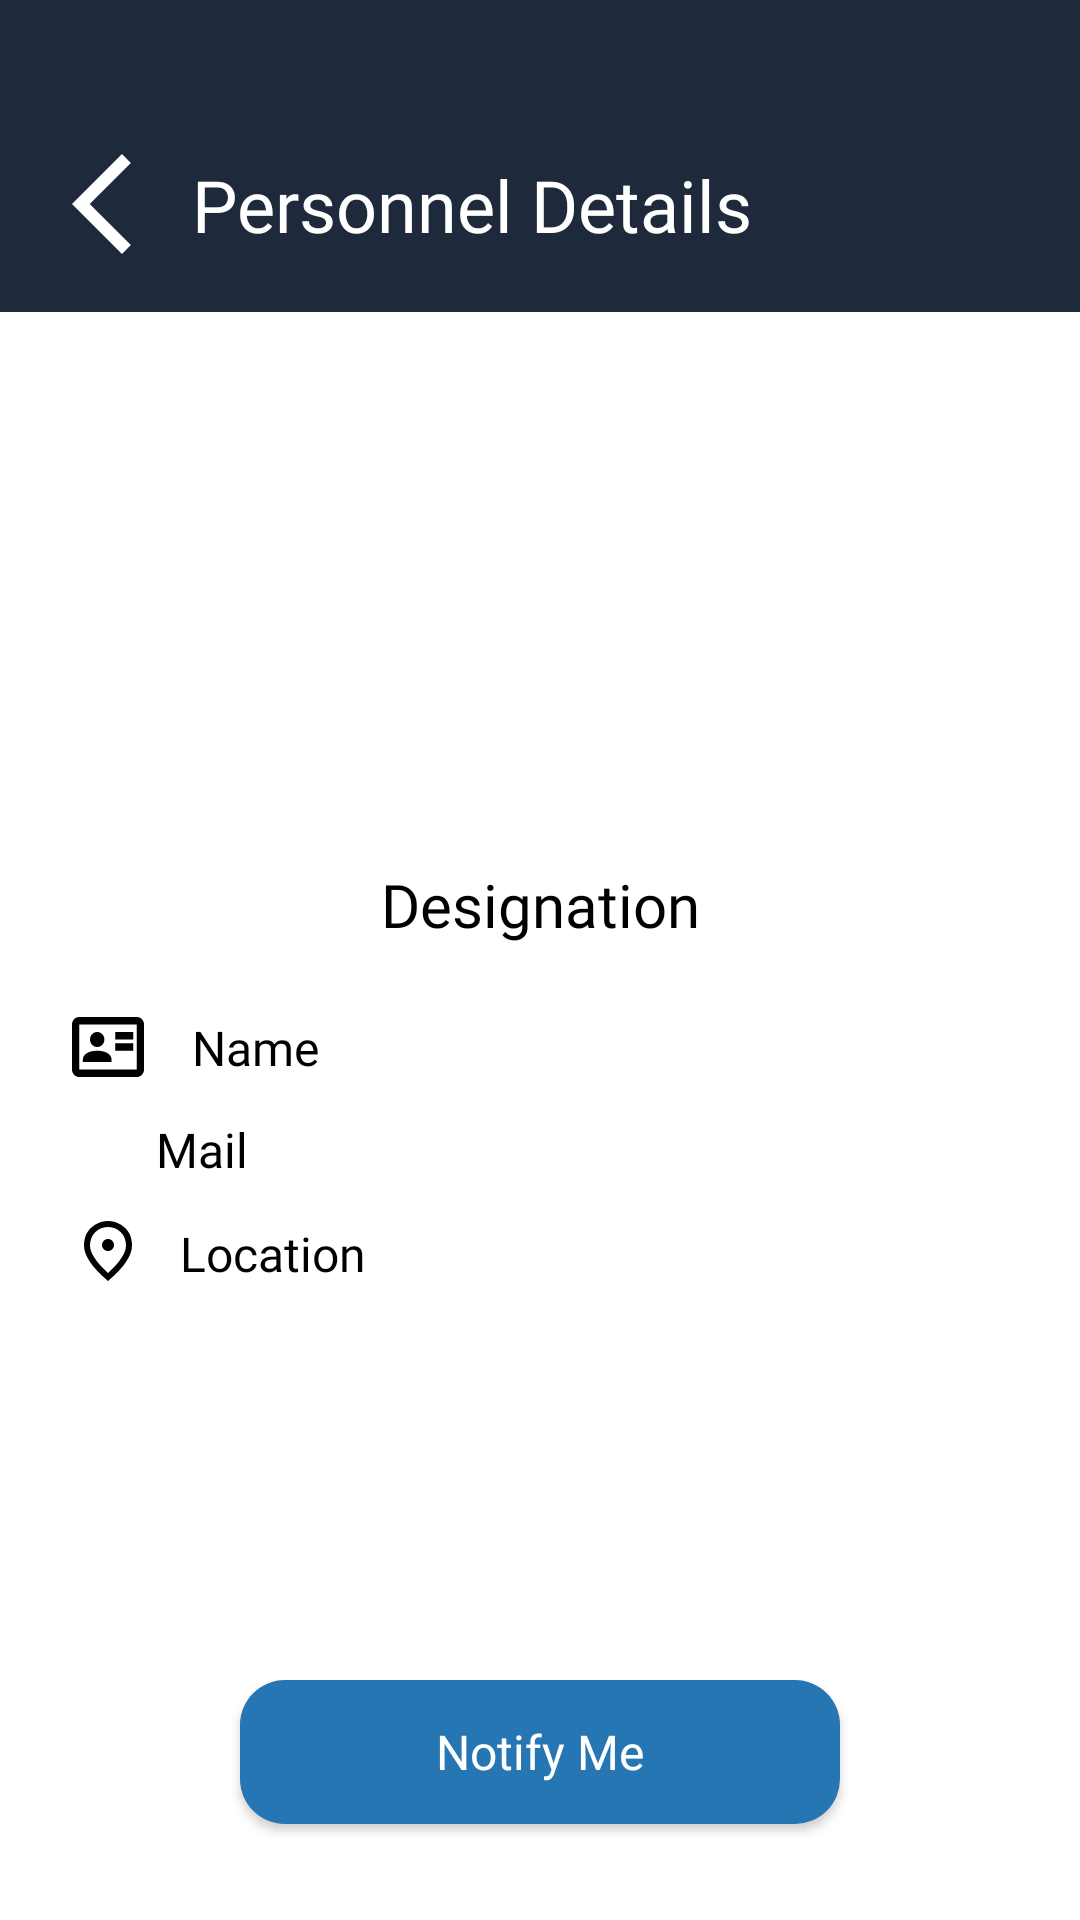

Named icons in this screenshot (1080w x 1920h) and their bounding boxes, (x1, y1, x2, y2):
back arrow: (72, 154, 131, 254)
